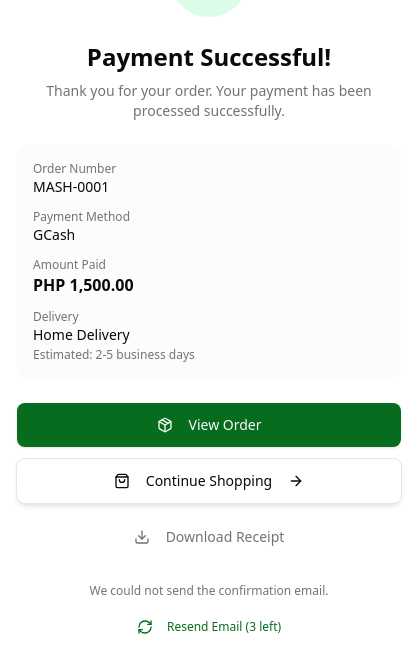
Test case: PaymentSuccessPage › Email Sending › should resend email when Resend Email button is clicked
(page scrolled)
# Click resend
Step 1. Click the button "Resend Email (3 left)" → point(209, 627), box left=125, top=607, right=293, bottom=647
(page scrolled)
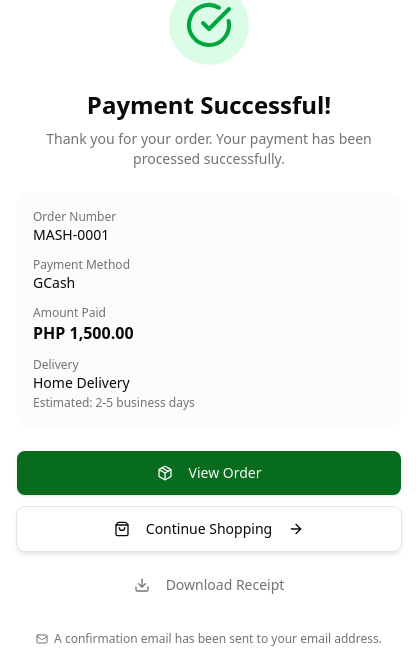
Check: the text "A confirmation email has been sent to your email address." is shown, box left=17, top=631, right=401, bottom=647
